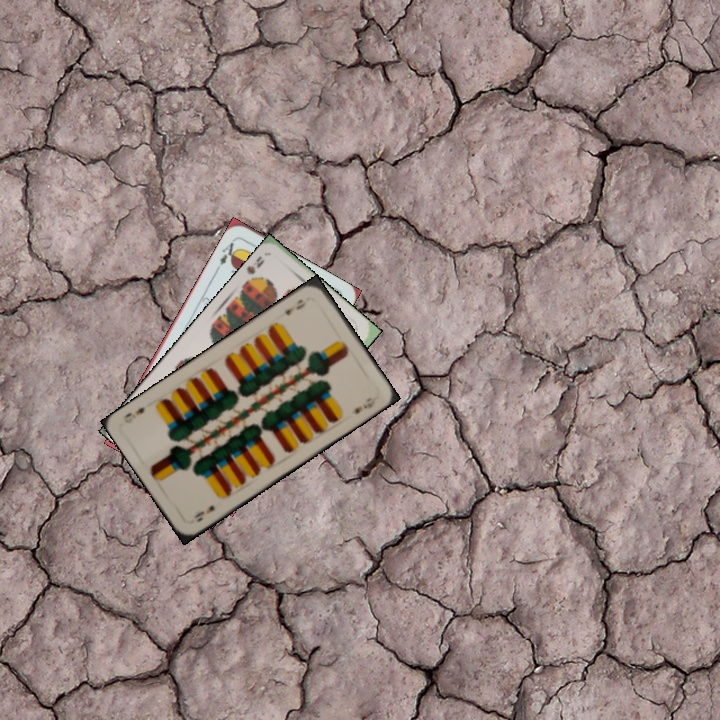E9: (189, 501, 218, 524), (281, 295, 308, 318)
EA: (215, 235, 241, 268)
S9: (241, 252, 268, 288)
